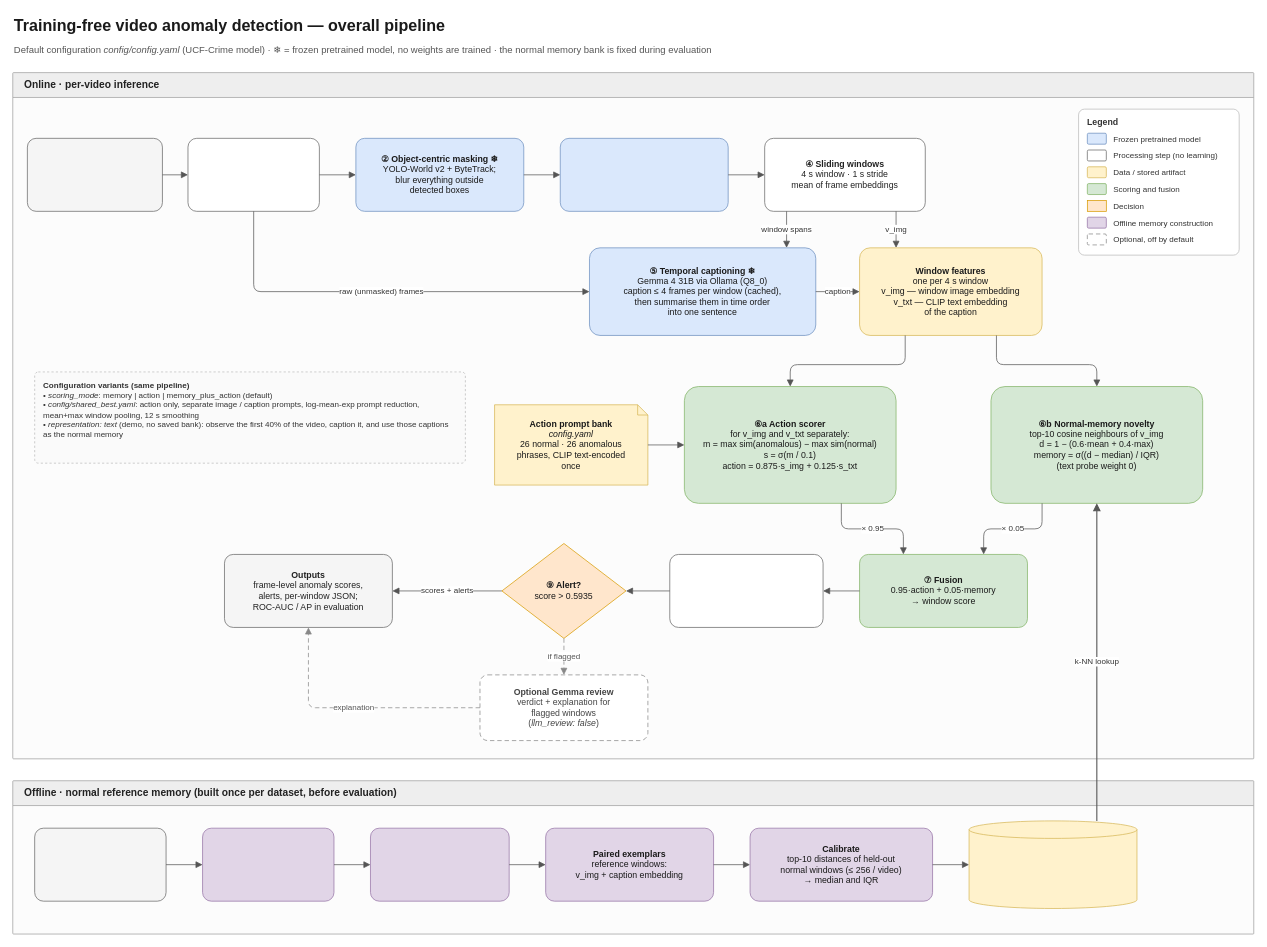
Image size: 1267x947. Some labels were removed from this diagram. The shapes that lost their labels are listed below. From the top down, each one's centre as x and y in pixels, then its label:
At pixel 94 174: "Input video UCF-Crime / XD-Violence test video, or a demo clip".
At pixel 253 174: "① Frame sampling OpenCV video stream 1 frame per second".
At pixel 644 174: "③ CLIP image encoder ❄ ViT-L/14 at full + 0.5× scale, averaged and L2-normalised".
At pixel 746 590: "⑧ Frame projection average overlapping windows onto every native frame".
At pixel 100 864: "Normal training videos e.g. UCF Normal_Videos_event".
At pixel 268 864: "Split by video seed 42 80% reference 20% calibration".
At pixel 439 864: "Run steps ①–⑤ same frozen models as inference".
At pixel 1052 864: "Normal memory bank ucf_visual_text_v1.npz 640 reference · 160 calibration videos".
